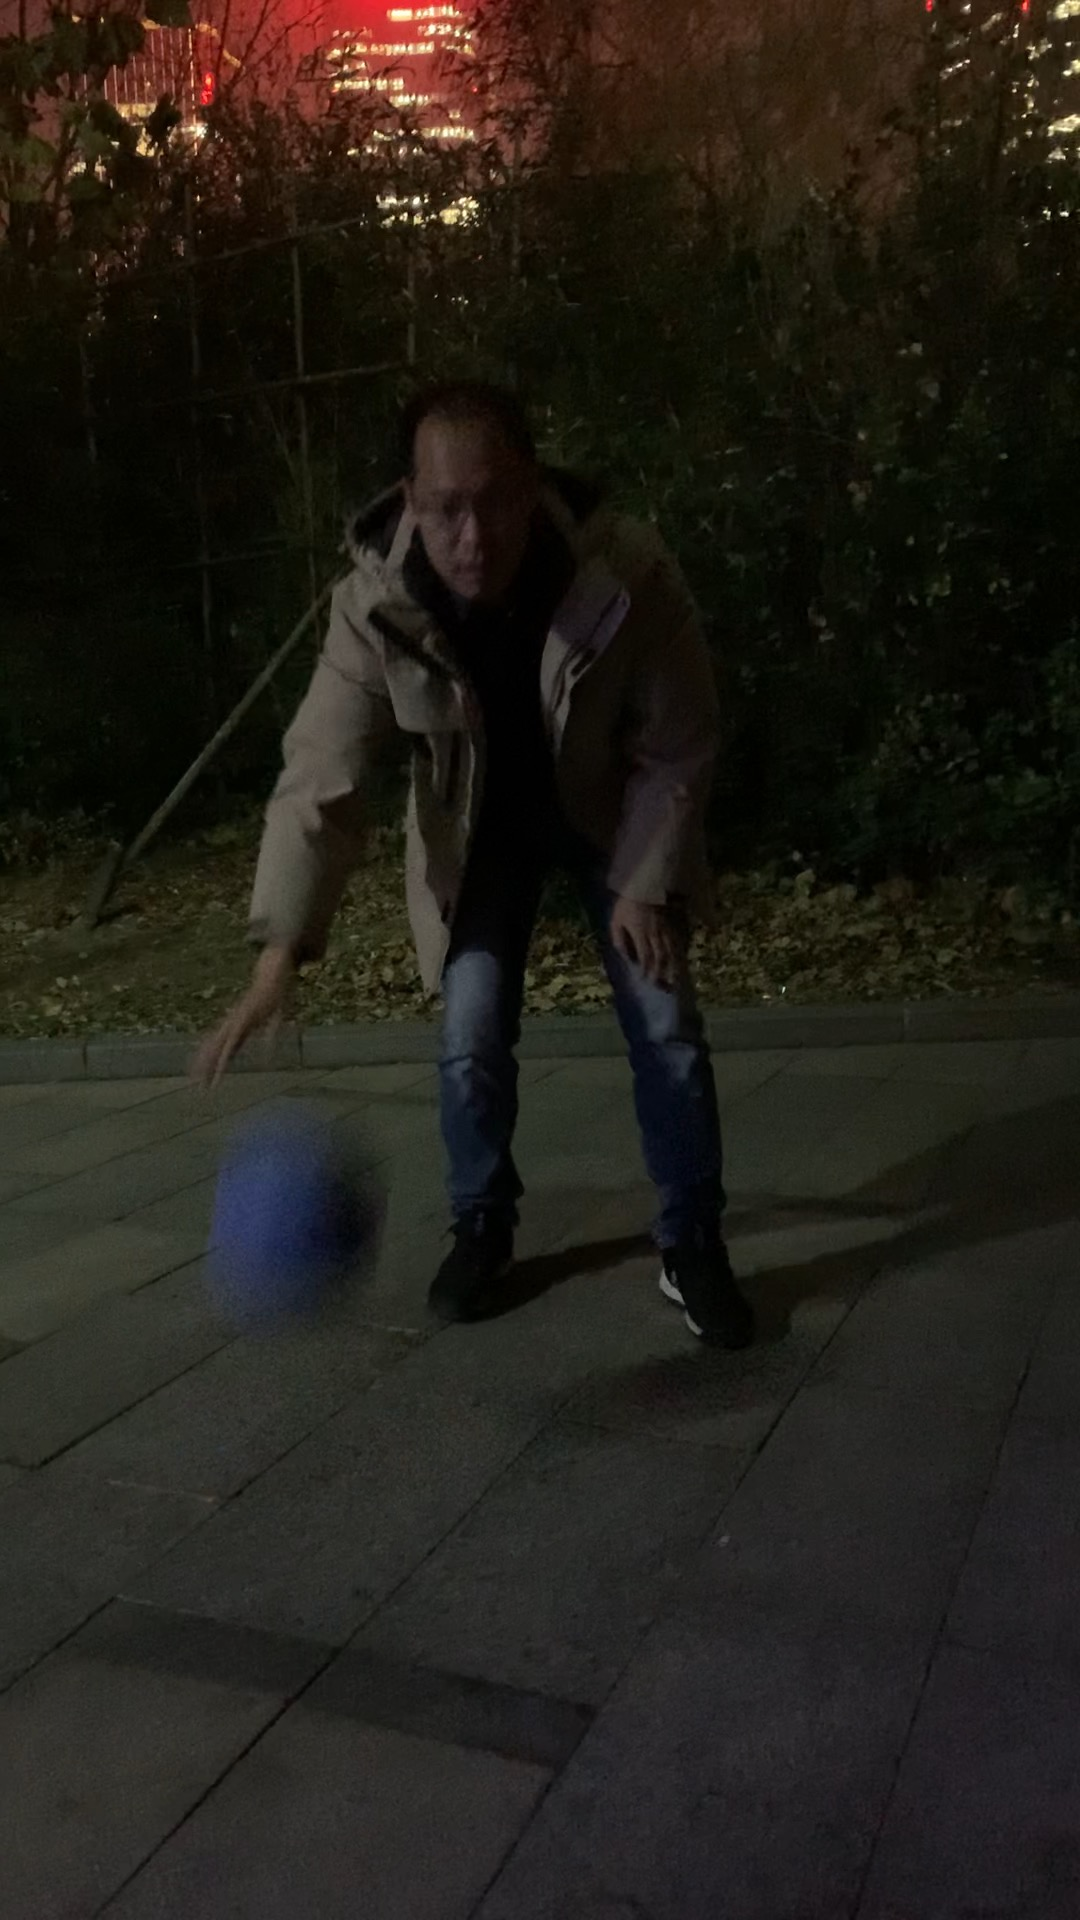ball: (199, 1137, 409, 1304)
